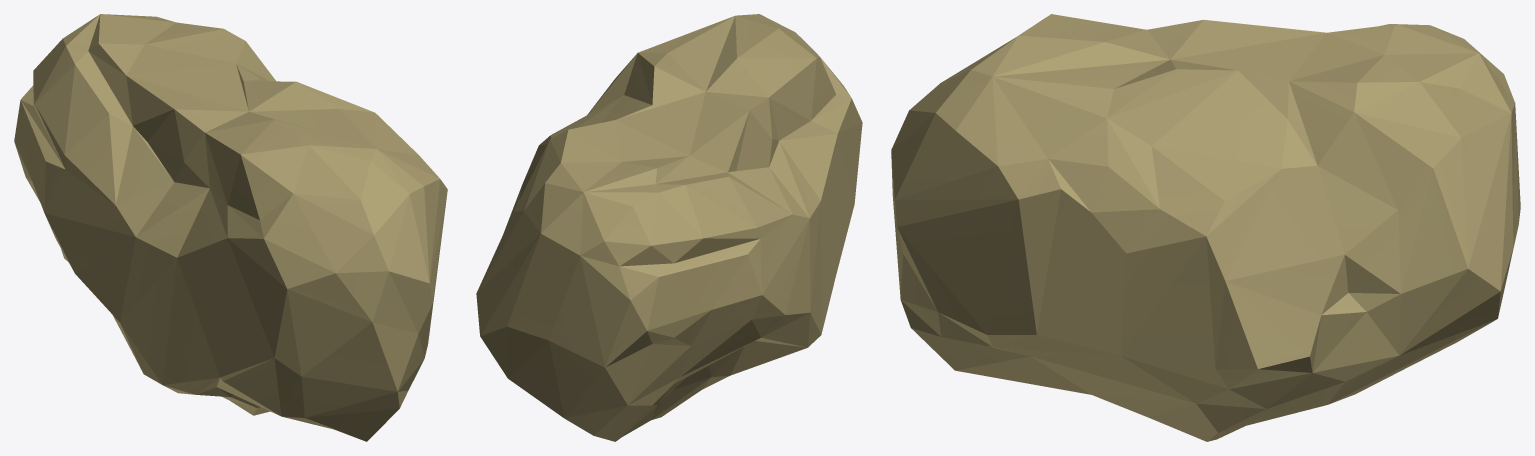
The model's file is SM_rock_61.fbx.
3 views of the same model, side by side, from view 1: azimuth 30°, elevation 25°; view 2: azimuth 150°, elevation 25°; view 3: azimuth 270°, elevation 25° (orthographic). The views are drawn at different scales.
Visible parts, largest first — view 1: rock_61; view 2: rock_61; view 3: rock_61.
Part boxes in pixels (<box>): rock_61: <box>14,14,447,441</box>; rock_61: <box>476,14,862,441</box>; rock_61: <box>891,14,1520,441</box>.
Size of the model in its own units: 125 by 132 by 196.
